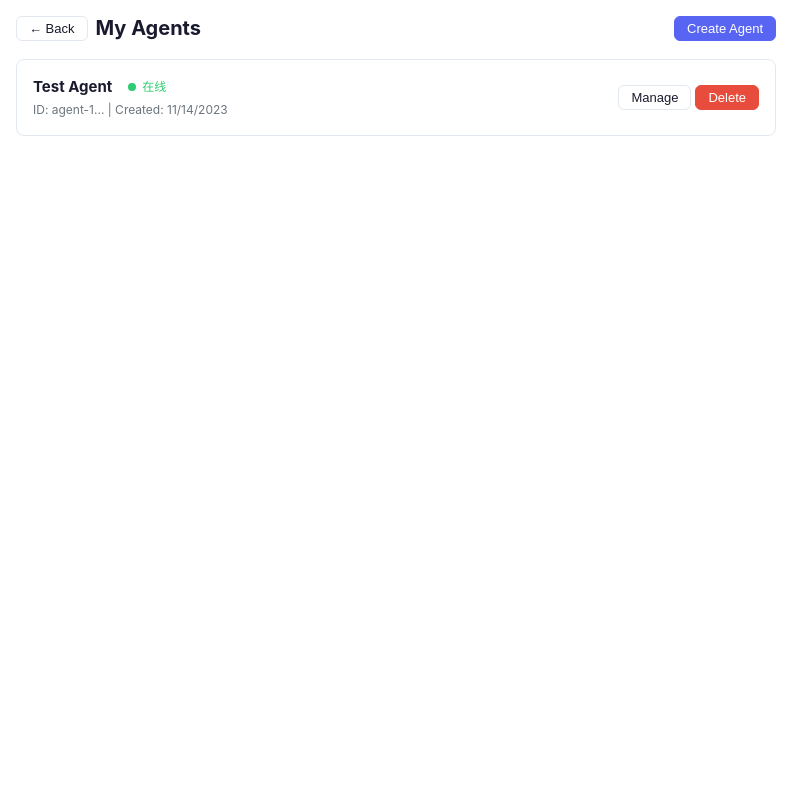
Test: #684 — AgentManager Credentials 卡 (mask + 复制 + auto-clear) › mask 模式 bgr_...{last4} 字面渲染 (反 Show 按钮 / 反完整 plaintext)
The width and height of the screenshot is (793, 788).
Click the button "Manage" at point(655, 97), box 618,85 -> 691,110
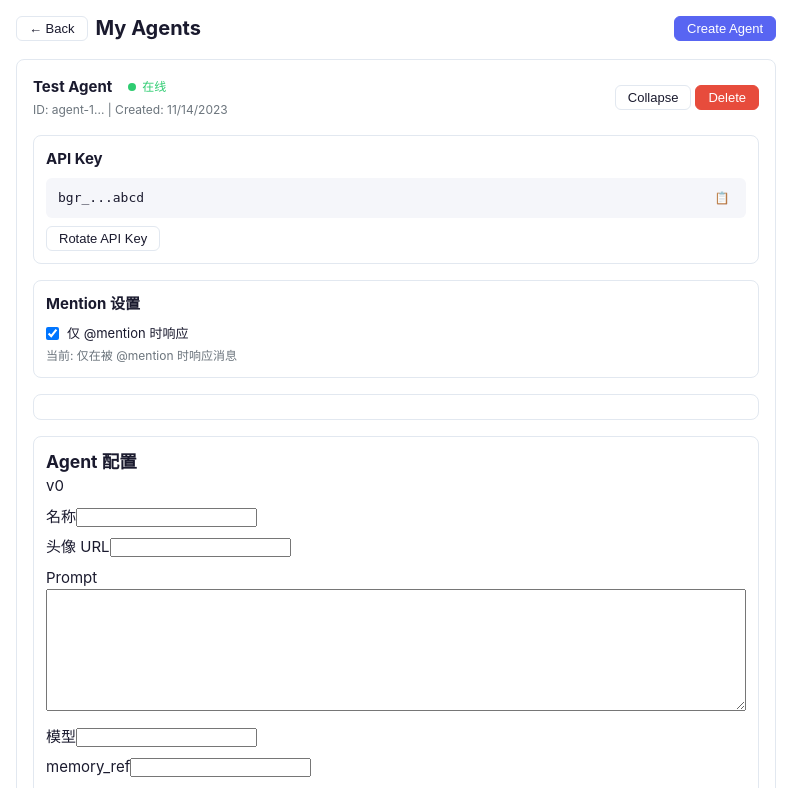
expect the text "bgr_...abcd" is shown: met, box 58,190 -> 144,205
